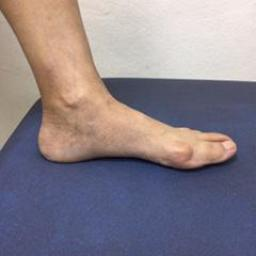Medial View -Left Foot-: (27, 74, 244, 184)
